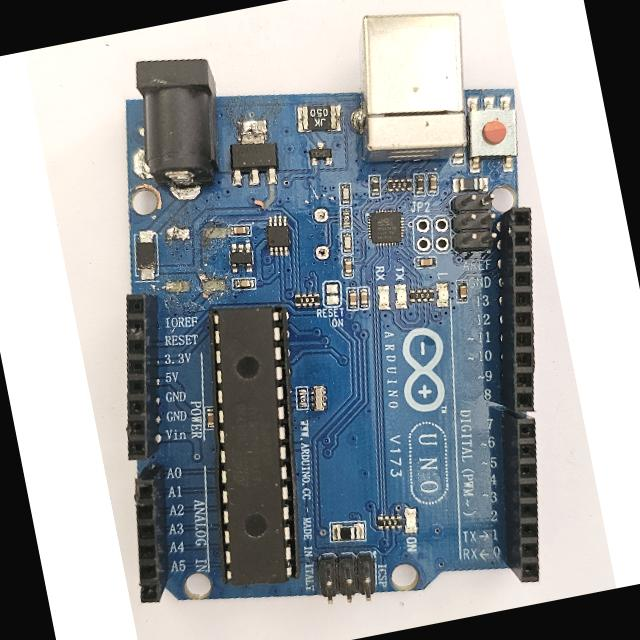missing_capacitors: (159, 211, 238, 299)
missing_crystal_os: (305, 188, 337, 279)
